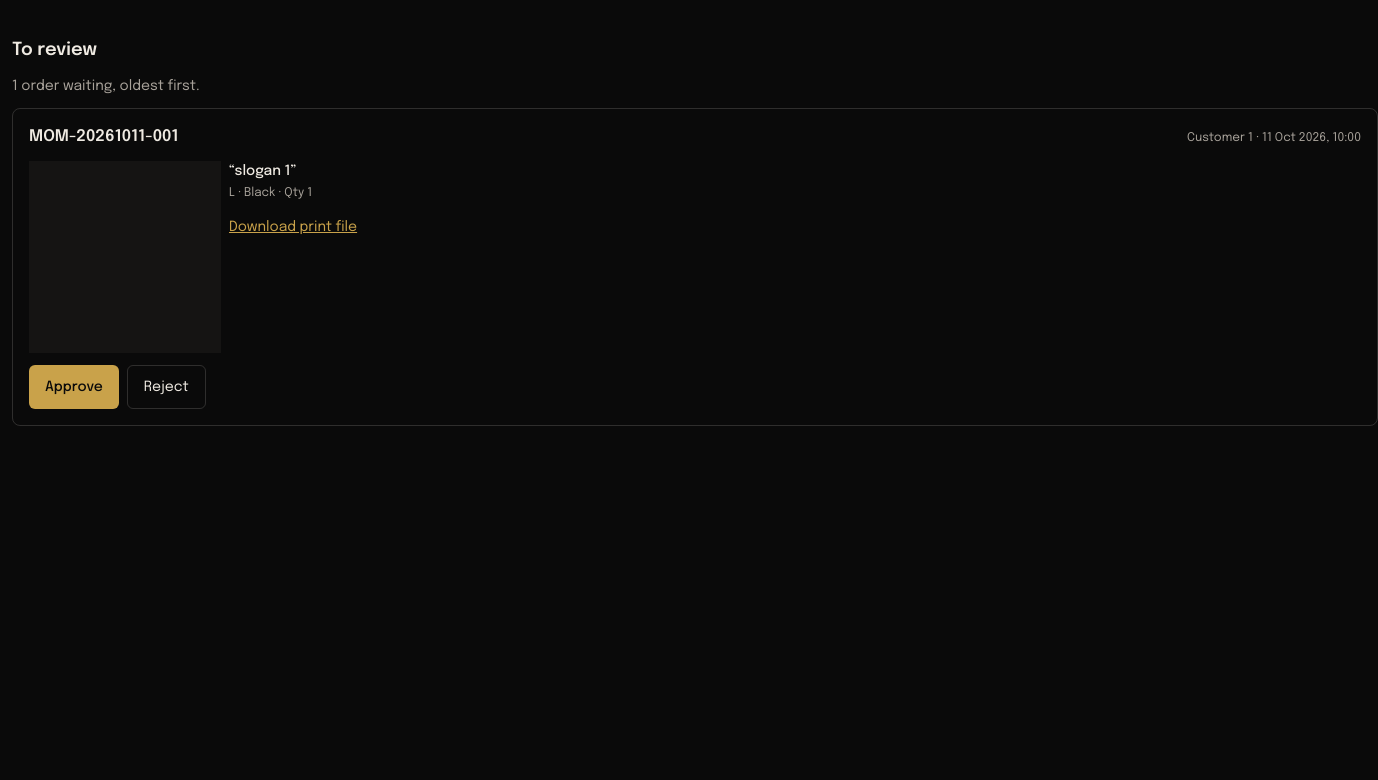
Test: ModerationQueue › rejects with a reason, telling the admin the customer was emailed
Click the button with aria-label "Reject MOM-20261011-001": (166, 387) [127,365,206,409]
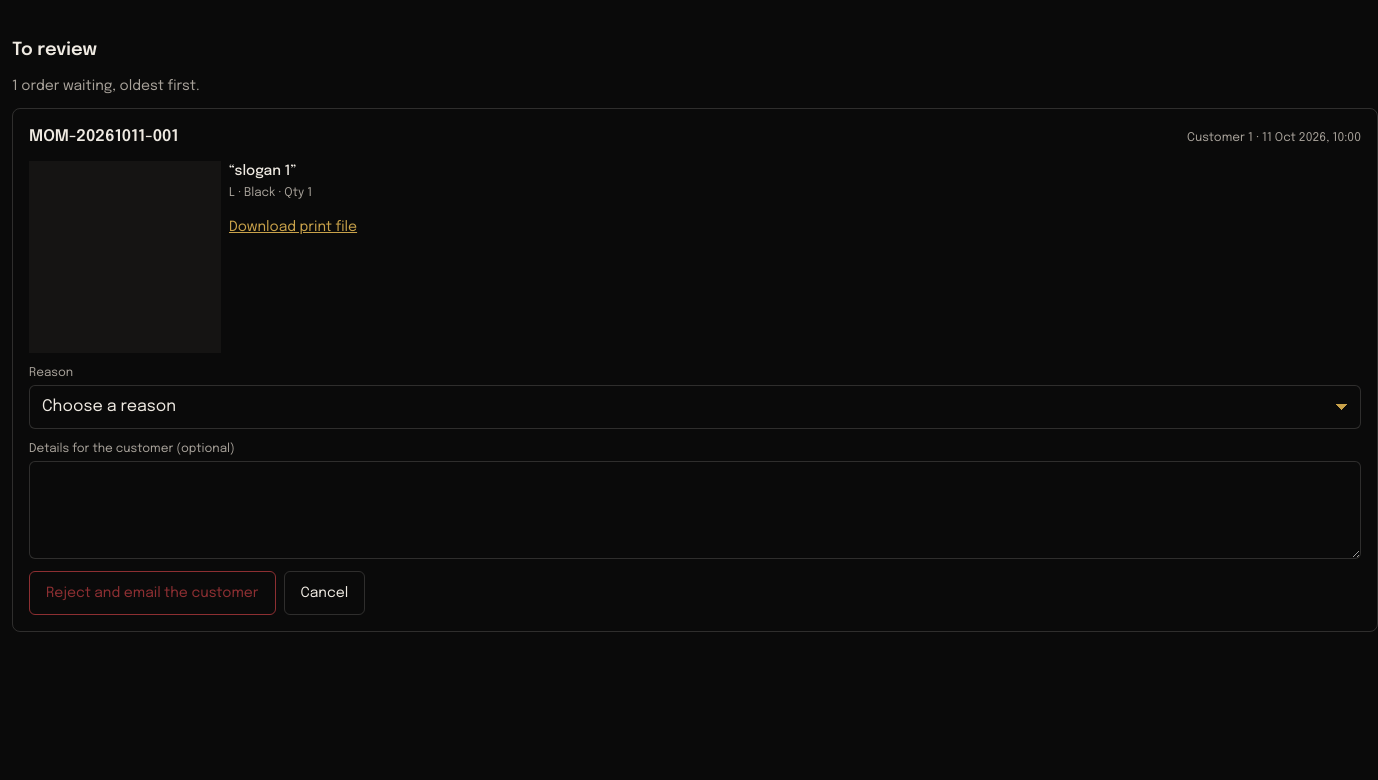
Expected: the button "Reject and email the customer" is disabled, [29,571,276,615]
Select "Unprintable design" in the dropdown labelled "Reason": (695, 407) [29,385,1361,429]
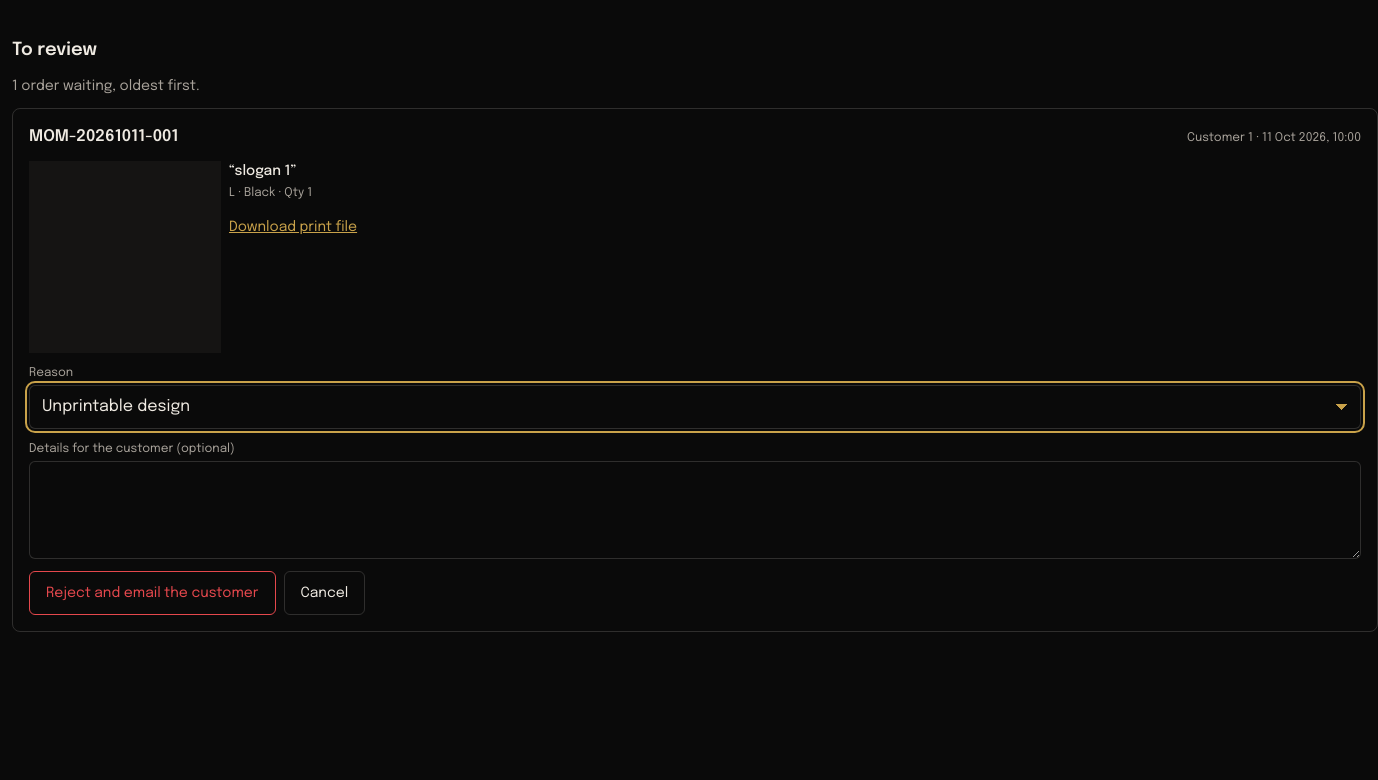
In the text box labelled "Details for the customer (optional)": (695, 510) [29,461,1361,559], type "The text is too small."
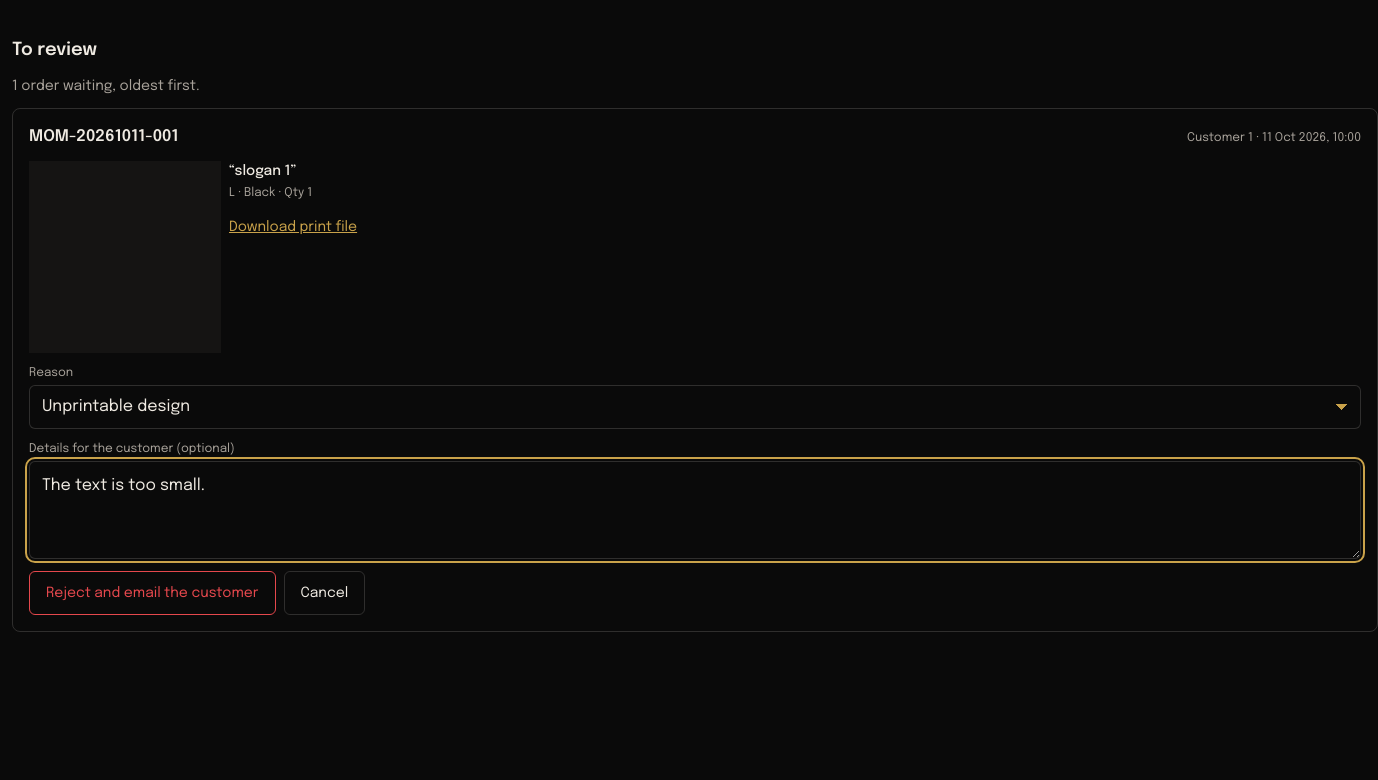
Click the button "Reject and email the customer": (152, 593) [29,571,276,615]
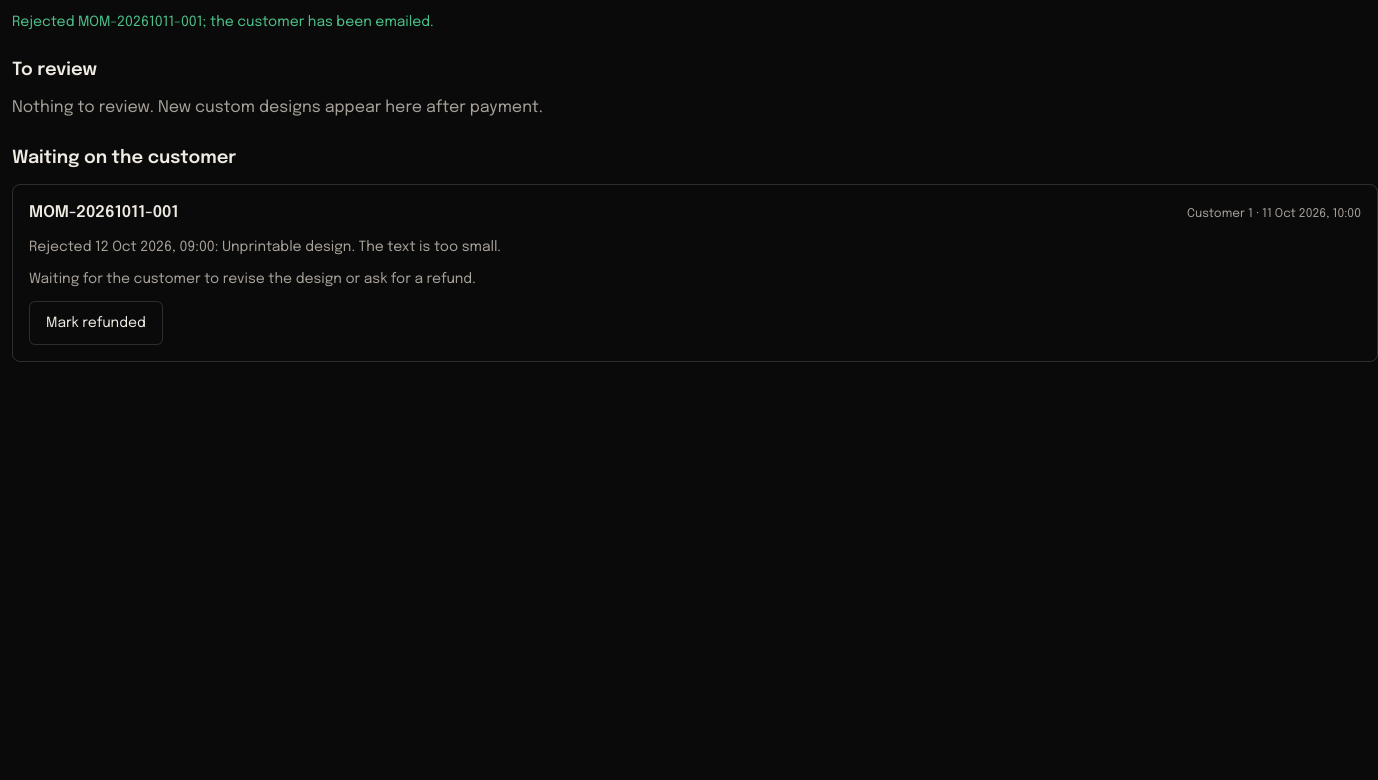
Expected: the text "Rejected MOM-20261011-001; the customer has been emailed." is shown, [12,15,434,29]
Expected: the text "Unprintable design. The text is too small." is shown, [29,240,501,254]
Expected: the text "Waiting for the customer to revise" is shown, [29,272,476,286]
